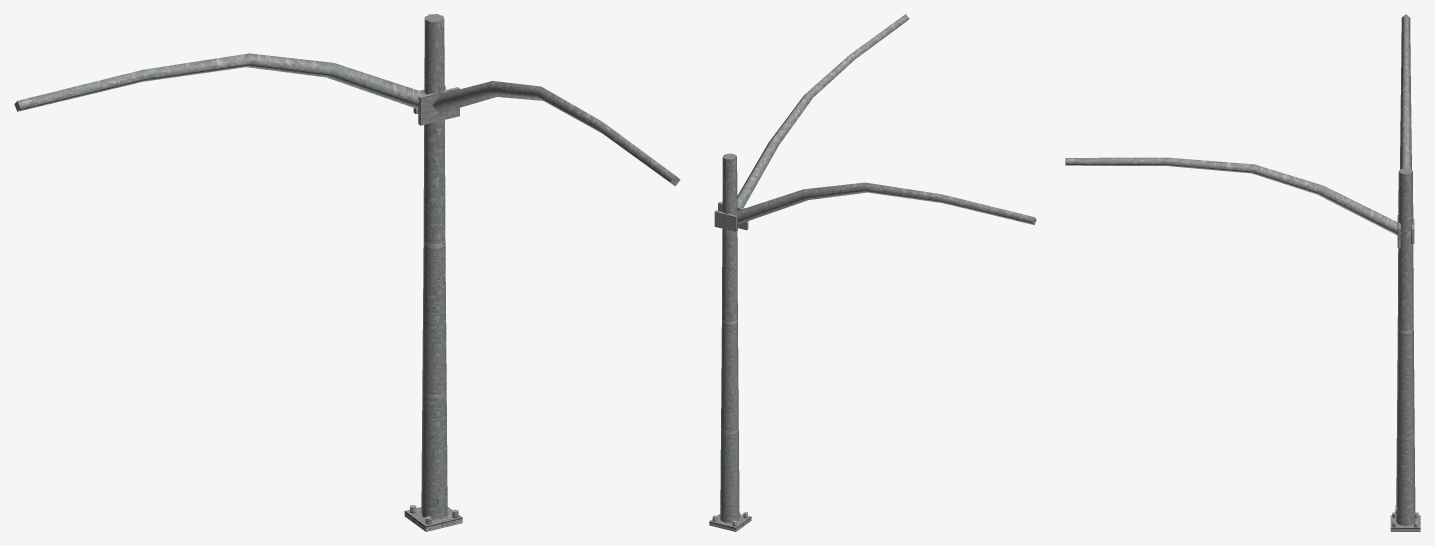
File: Traffic-LightPoleB.fbx
3 views of the same model, side by side, from view 1: azimuth 30°, elevation 25°; view 2: azimuth 150°, elevation 25°; view 3: azimuth 270°, elevation 25° (orthographic). The views are drawn at different scales.
Parts seen in each view (by area): view 1: Traffic-LightPoleB; view 2: Traffic-LightPoleB; view 3: Traffic-LightPoleB.
Boxes of the visible parts, x1,y1,x2,y2 form: Traffic-LightPoleB: [14, 14, 680, 531]; Traffic-LightPoleB: [709, 14, 1036, 531]; Traffic-LightPoleB: [1065, 14, 1420, 531].
Size of the model in its own units: 833 by 948 by 830.
